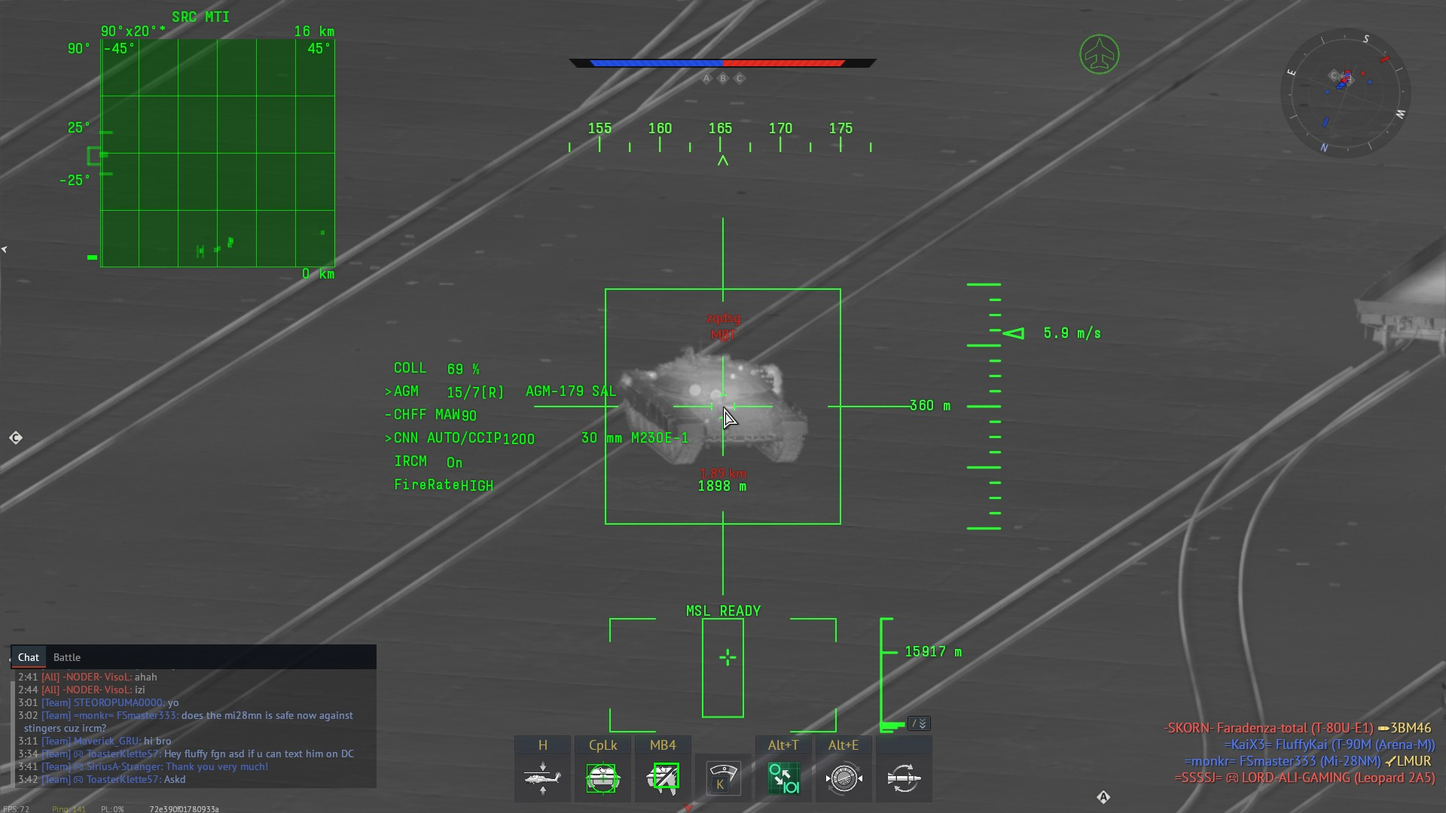t72b: (618, 349, 811, 465)
